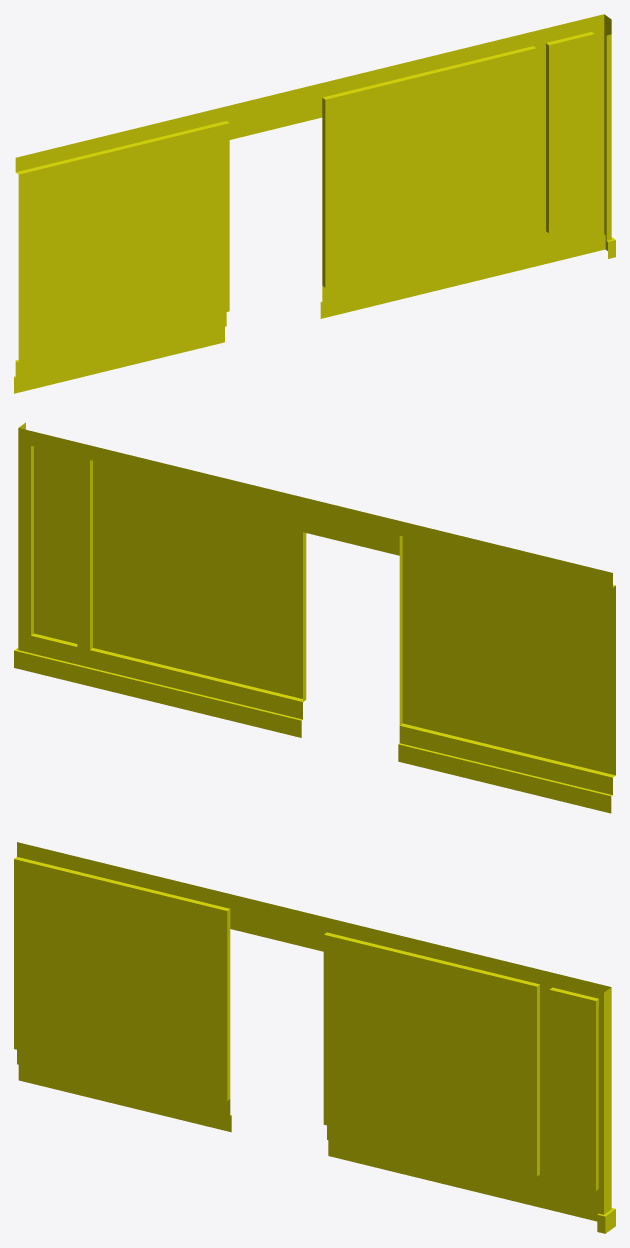
The model's file is HallWallD.fbx.
3 views of the same model, one above another, from view 1: azimuth 30°, elevation 25°; view 2: azimuth 150°, elevation 25°; view 3: azimuth 330°, elevation 25° (orthographic).
Visible parts, largest first — view 1: HallWallD; view 2: HallWallD; view 3: HallWallD.
Part boxes in pixels (box(x1,y1,x2,y2)): HallWallD: box(14, 14, 615, 393); HallWallD: box(14, 422, 615, 813); HallWallD: box(14, 842, 615, 1233).
Bounding box in the file's own units: 902 × 346 × 27.74.
